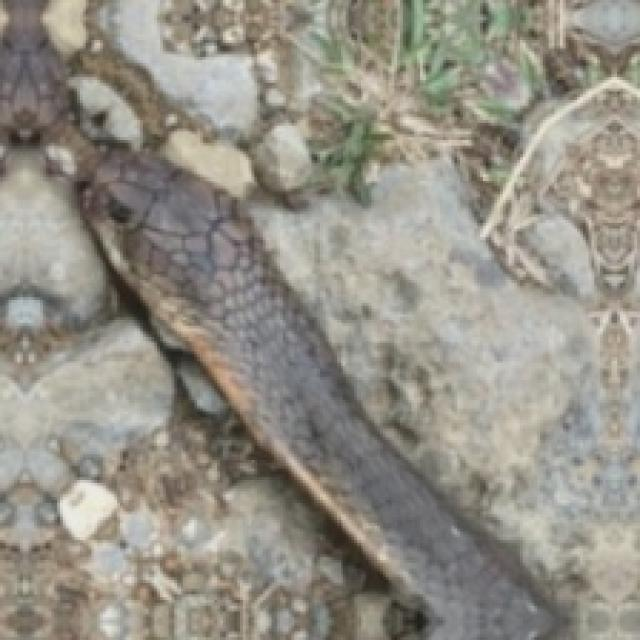king cobra: (83, 151, 566, 637)
